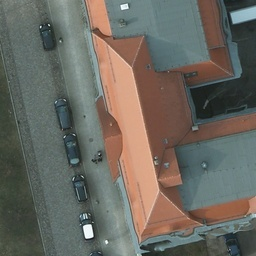car: (37, 21, 63, 50), (62, 135, 82, 166), (78, 212, 96, 244), (73, 174, 89, 204), (219, 1, 248, 9)
van: (55, 99, 71, 131)
